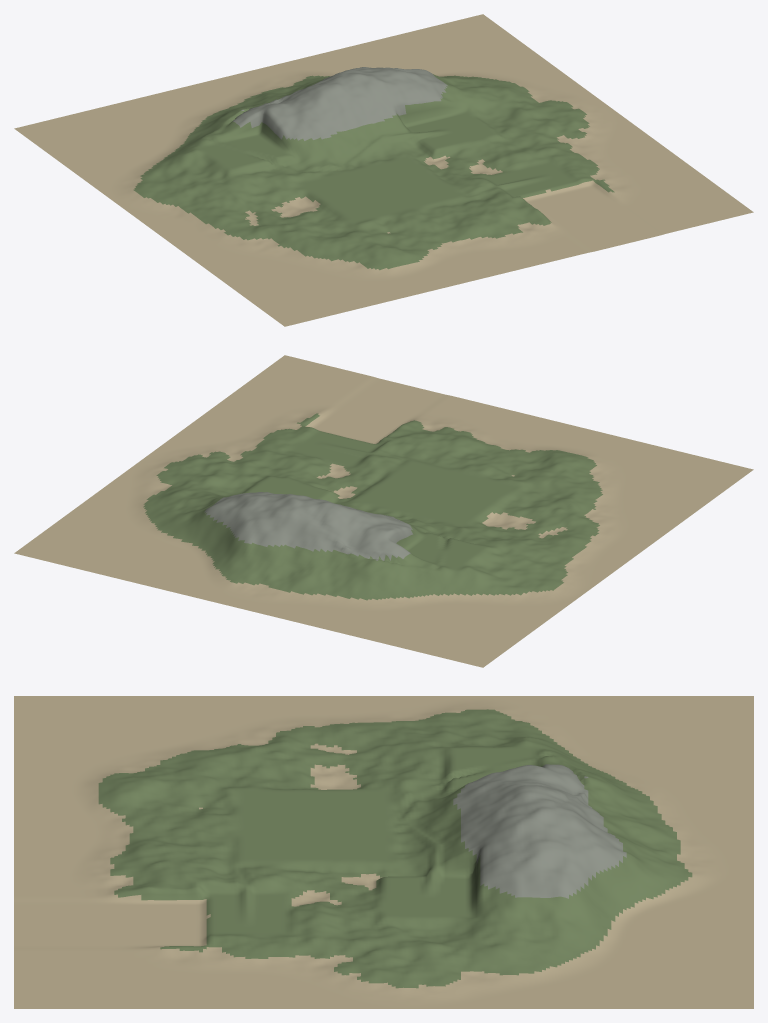
The model's file is terrain.glb.
3 renders of one model, top to bottom at view 1: azimuth 30°, elevation 25°; view 2: azimuth 150°, elevation 25°; view 3: azimuth 270°, elevation 25°, orthographic. The views are drawn at different scales.
Parts seen in each view (by area): view 1: GREYHAVEN | continuous sculpted island; view 2: GREYHAVEN | continuous sculpted island; view 3: GREYHAVEN | continuous sculpted island.
Boxes of the visible parts, bbox=[...] form: GREYHAVEN | continuous sculpted island: bbox=[14, 14, 753, 326]; GREYHAVEN | continuous sculpted island: bbox=[14, 355, 753, 667]; GREYHAVEN | continuous sculpted island: bbox=[14, 696, 753, 1008].
Size of the model in its own units: 1700 by 162 by 1700.
